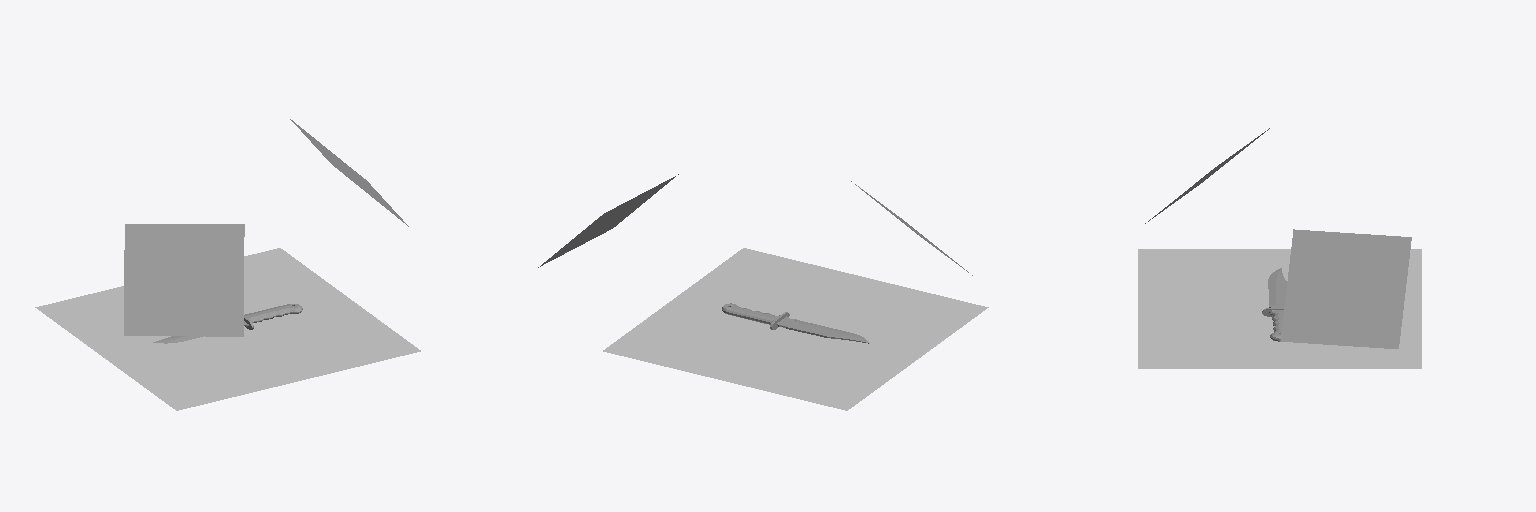
The model's file is knifeCycles.obj.
3 views of the same model, side by side, from view 1: azimuth 30°, elevation 25°; view 2: azimuth 150°, elevation 25°; view 3: azimuth 270°, elevation 25° (orthographic).
Visible parts, largest first — view 1: Plane, Plane.004, Plane.005_Plane.009, Handle_Plane.006; view 2: Plane, Plane.005_Plane.009, Blade_Plane.001, Handle_Plane.006; view 3: Plane, Plane.005_Plane.009, Blade_Plane.001.
Part boxes in pixels (bbox=[...]): Plane: bbox=[35, 248, 420, 410]; Plane.004: bbox=[124, 224, 244, 336]; Plane.005_Plane.009: bbox=[290, 119, 408, 226]; Handle_Plane.006: bbox=[244, 304, 302, 329]; Plane: bbox=[603, 248, 988, 410]; Plane.005_Plane.009: bbox=[538, 174, 678, 267]; Blade_Plane.001: bbox=[776, 316, 869, 343]; Handle_Plane.006: bbox=[722, 303, 789, 329]; Plane: bbox=[1138, 249, 1421, 368]; Plane.005_Plane.009: bbox=[1280, 229, 1411, 348]; Blade_Plane.001: bbox=[1268, 268, 1286, 307].
Size of the model in its own units: 32.89 by 12.27 by 23.6.